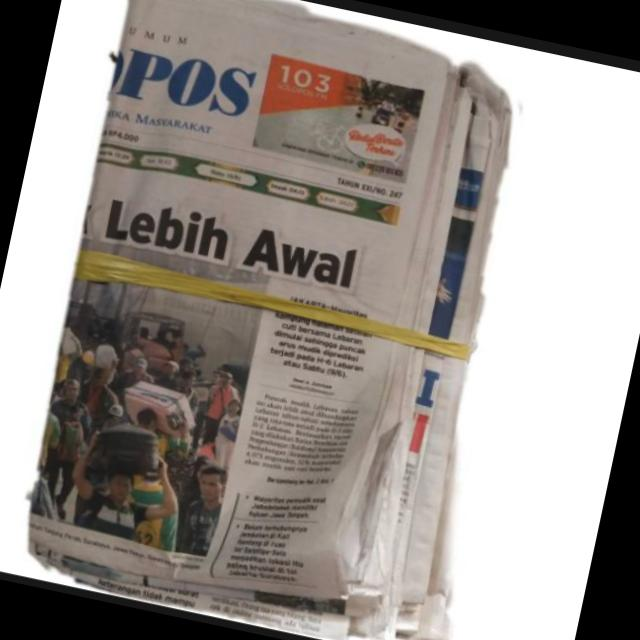Koran: (4, 0, 572, 640)
